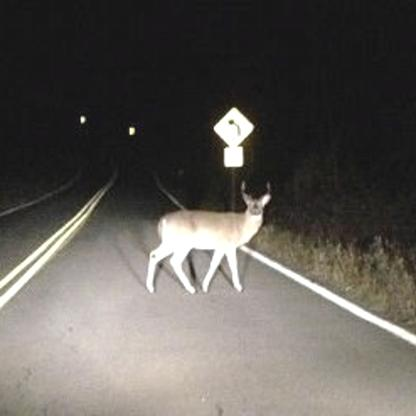Deer: (145, 179, 273, 296)
